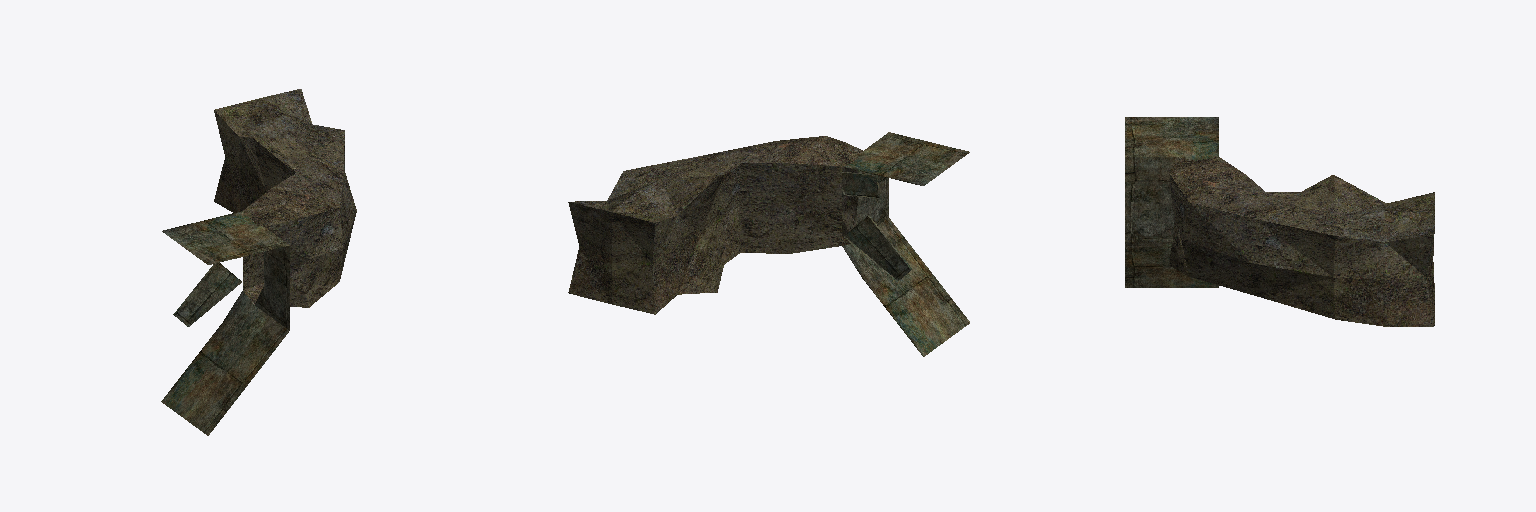
The picture shows the model from 3 angles: view 1: azimuth 30°, elevation 25°; view 2: azimuth 150°, elevation 25°; view 3: azimuth 270°, elevation 25°; orthographic projection.
Visible parts, largest first — view 1: Plane.004, Plane.001; view 2: Plane.004, Plane.001, Plane; view 3: Plane.004.
Part boxes in pixels (x1,y1,x2,y2): Plane.004: (161,89,356,435); Plane.001: (173,263,241,326); Plane.004: (568,132,969,356); Plane.001: (844,215,911,281); Plane: (842,172,879,198); Plane.004: (1125,117,1434,326).
Size of the model in its own units: 3141 by 2230 by 3366.
Materials: 3 (3 with a texture image).